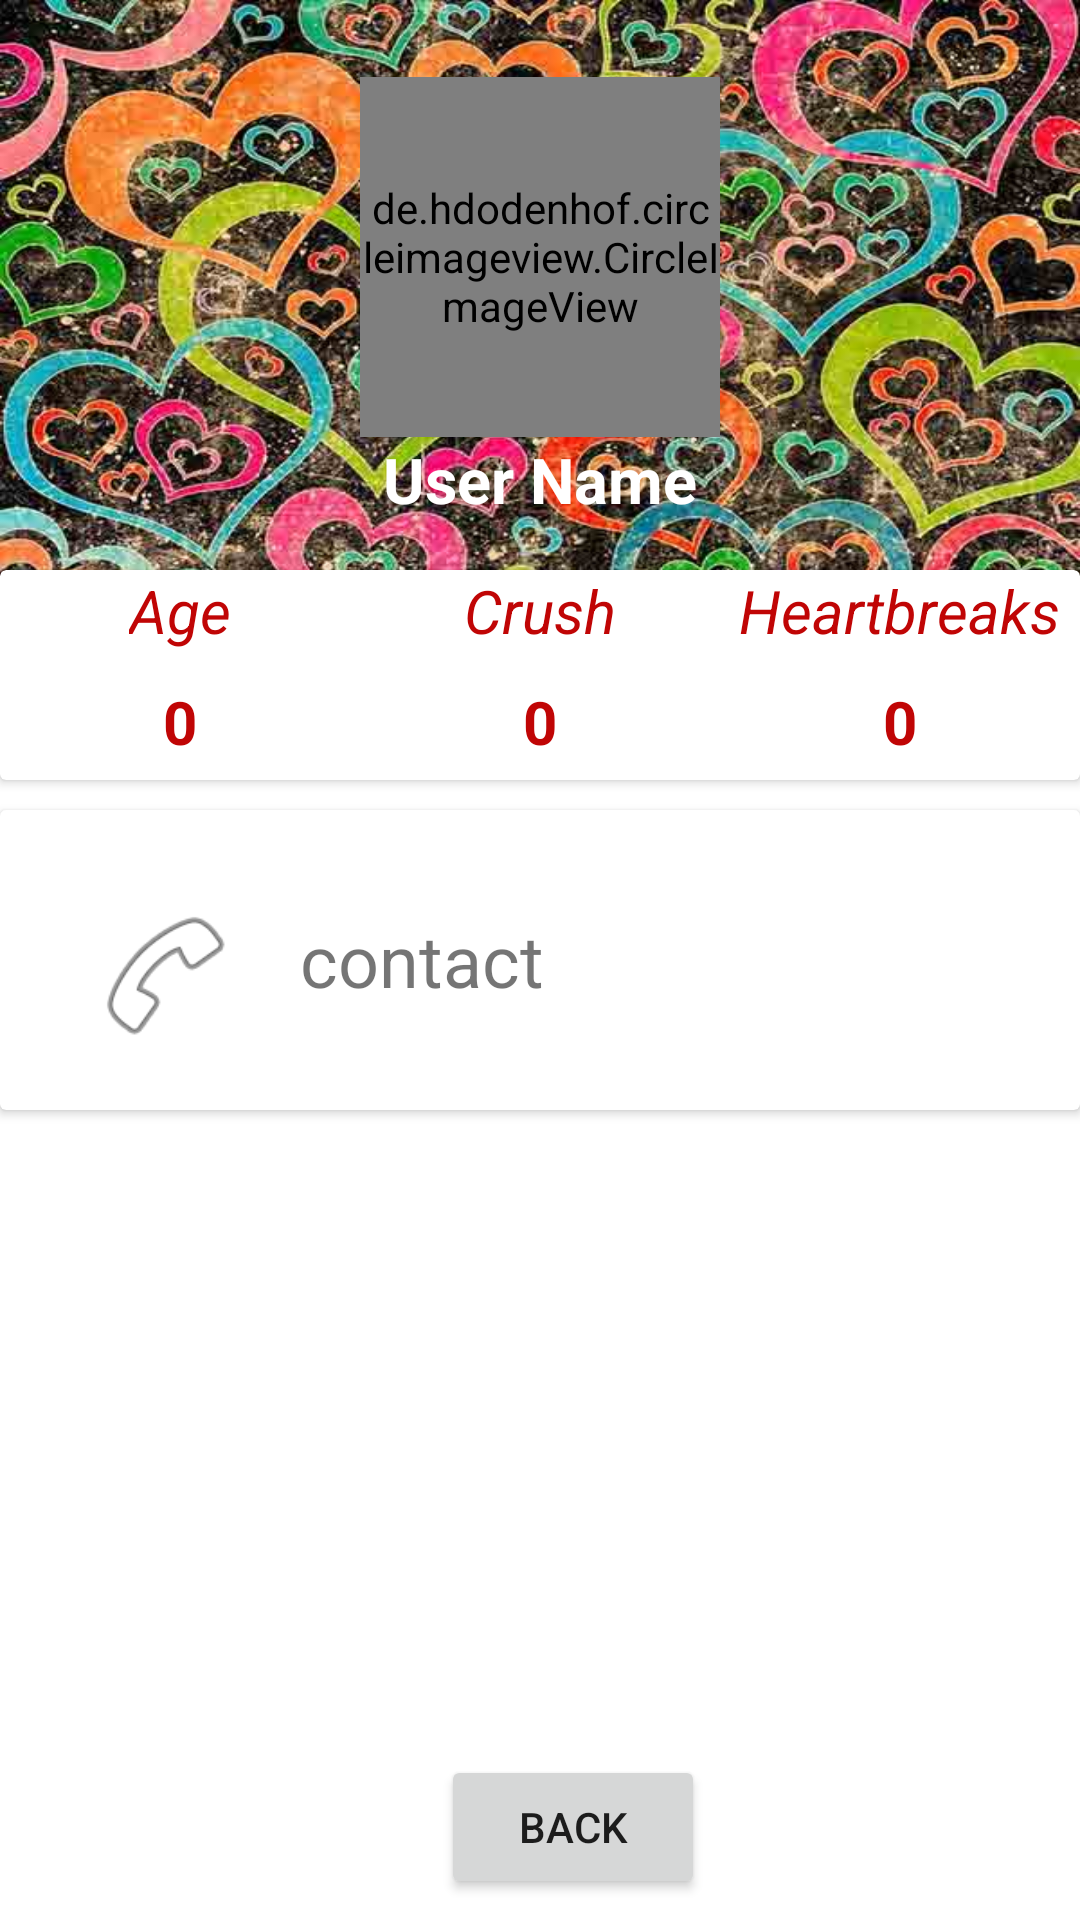

Locate icon controls on the screen. Image size 1080 × 1920, boxes as (x1, y1, x2, y2).
call: (107, 917, 225, 1035)
